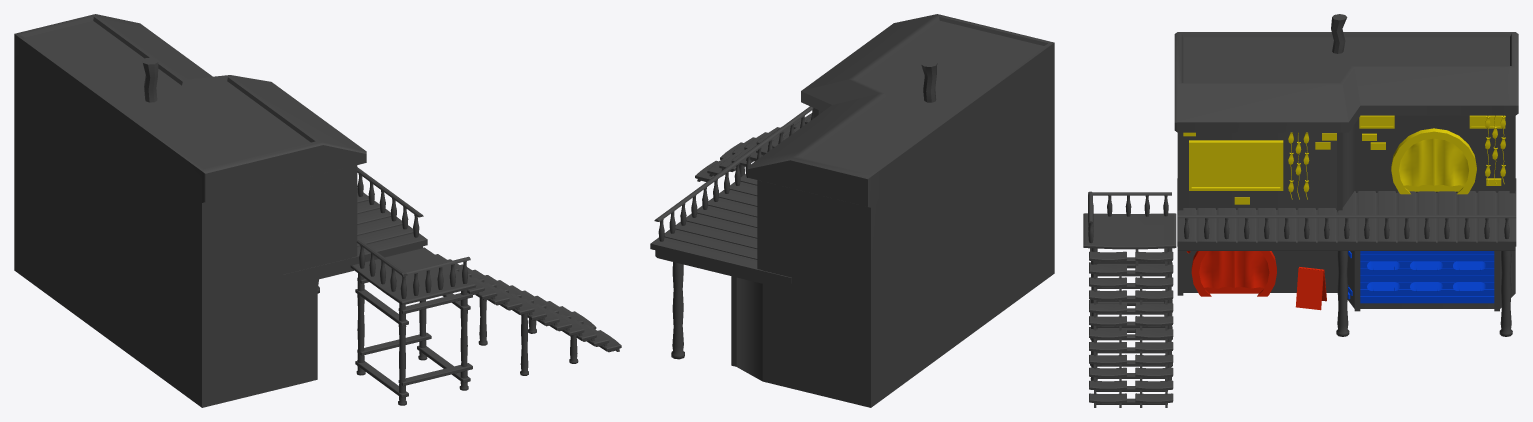
File: SectionA.fbx
The picture shows the model from 3 angles, left to right: view 1: azimuth 30°, elevation 25°; view 2: azimuth 150°, elevation 25°; view 3: azimuth 270°, elevation 25°; orthographic projection. The views are drawn at different scales.
Parts seen in each view (by area): view 1: ShopA1, StairCase1; view 2: ShopA1, StairCase1; view 3: ShopA1, StairCase1, FishingShop, SkateShop2, SkateShop1.
Boxes of the visible parts, x1,y1,x2,y2 form: ShopA1: [14, 14, 427, 407]; StairCase1: [350, 239, 621, 405]; ShopA1: [650, 14, 1054, 407]; StairCase1: [695, 113, 811, 181]; ShopA1: [1174, 14, 1518, 336]; StairCase1: [1083, 191, 1176, 407]; FishingShop: [1183, 115, 1505, 204]; SkateShop2: [1347, 251, 1494, 303]; SkateShop1: [1186, 251, 1326, 310].
Size of the model in its own units: 53.89 by 37.67 by 60.67.
